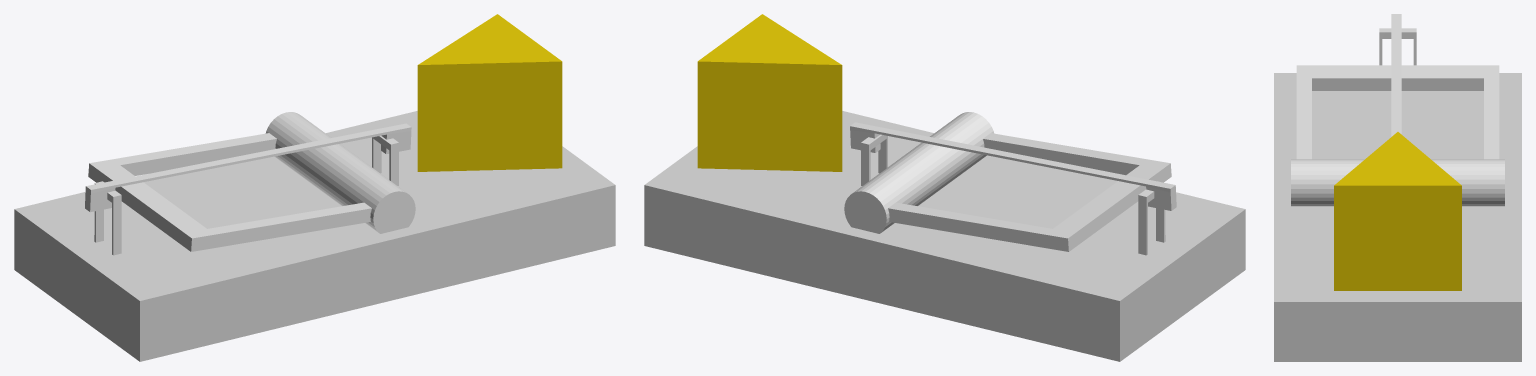
The model's file is mousetrap.fbx.
3 renders of one model, left to right at view 1: azimuth 30°, elevation 25°; view 2: azimuth 150°, elevation 25°; view 3: azimuth 270°, elevation 25°, orthographic.
Visible parts, largest first — view 1: Cube.008, Cube.010, Cube.011; view 2: Cube.008, Cube.010, Cube.011; view 3: Cube.008, Cube.011, Cube.010.
Part boxes in pixels (x1=…): Cube.008: x1=14, y1=111, x2=615, y2=361; Cube.010: x1=85, y1=112, x2=415, y2=255; Cube.011: x1=417, y1=14, x2=562, y2=171; Cube.008: x1=644, y1=111, x2=1245, y2=361; Cube.010: x1=844, y1=112, x2=1176, y2=255; Cube.011: x1=697, y1=14, x2=842, y2=171; Cube.008: x1=1274, y1=73, x2=1521, y2=361; Cube.011: x1=1334, y1=132, x2=1461, y2=290; Cube.010: x1=1291, y1=14, x2=1504, y2=206.
Size of the model in its own units: 437 by 147 by 200.
